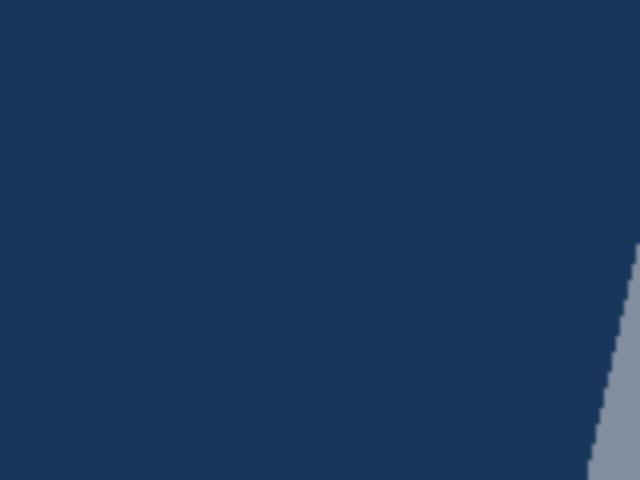goal_zone: (153, 176, 224, 192)
